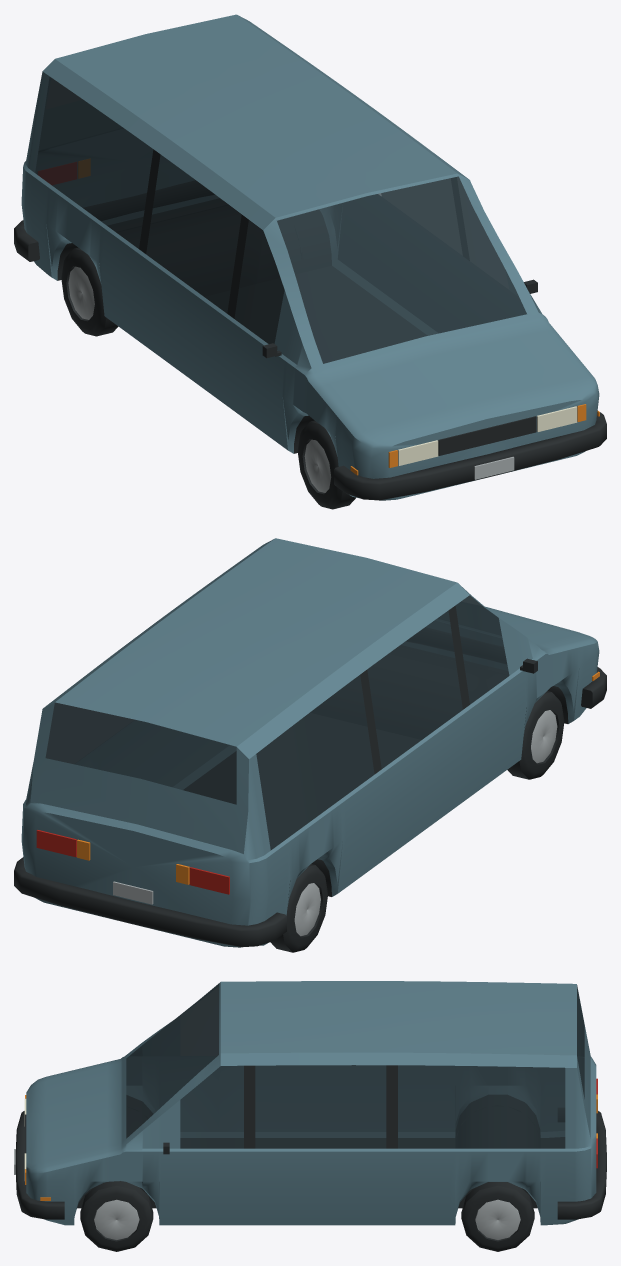
Rendered from customer-car-minivan-lite.glb.
3 views of the same model, one above another, from view 1: azimuth 30°, elevation 25°; view 2: azimuth 150°, elevation 25°; view 3: azimuth 270°, elevation 25° (orthographic). The views are drawn at different scales.
Visible parts, largest first — view 1: Minivan_BodyPaint, Minivan_WindowGlass, Minivan_RubberTrim, Minivan_WheelMetal, Minivan_Headlamp; view 2: Minivan_BodyPaint, Minivan_RubberTrim, Minivan_WindowGlass, Minivan_WheelMetal, Minivan_TailLamp, Minivan_AmberLens; view 3: Minivan_BodyPaint, Minivan_WindowGlass, Minivan_RubberTrim, Minivan_WheelMetal.
Part boxes in pixels (box(x1,y1,x2,y2)): Minivan_BodyPaint: box(21, 14, 599, 500); Minivan_WindowGlass: box(35, 77, 526, 363); Minivan_RubberTrim: box(14, 149, 606, 509); Minivan_WheelMetal: box(68, 266, 514, 492); Minivan_Headlamp: box(398, 406, 577, 465); Minivan_BodyPaint: box(21, 538, 599, 947); Minivan_RubberTrim: box(14, 605, 606, 952); Minivan_WindowGlass: box(45, 595, 509, 850); Minivan_WheelMetal: box(113, 710, 557, 936); Minivan_TailLamp: box(36, 830, 229, 894); Minivan_AmberLens: box(77, 671, 599, 884); Minivan_BodyPaint: box(26, 981, 596, 1225); Minivan_WindowGlass: box(126, 983, 584, 1148); Minivan_RubberTrim: box(15, 1065, 606, 1251); Minivan_WheelMetal: box(14, 1149, 520, 1239).
Size of the model in its own units: 6.56 by 5.56 by 15.4.
